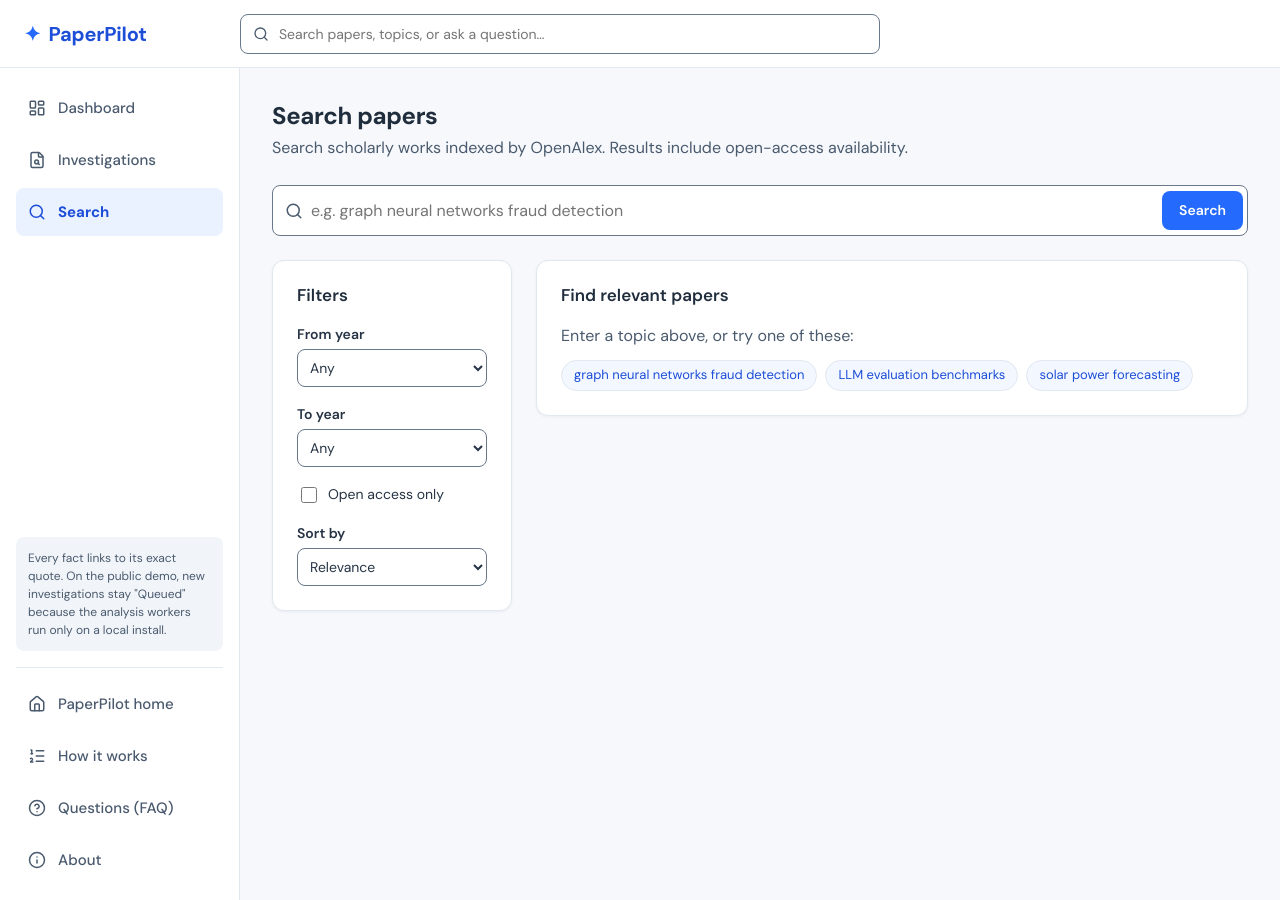
Scenario: SearchPage › searches, shows results with availability and author summary
The image size is (1280, 900).
Type "graph learning" into the search field named "Search papers" at (733, 211), box [311,190,1154,231]
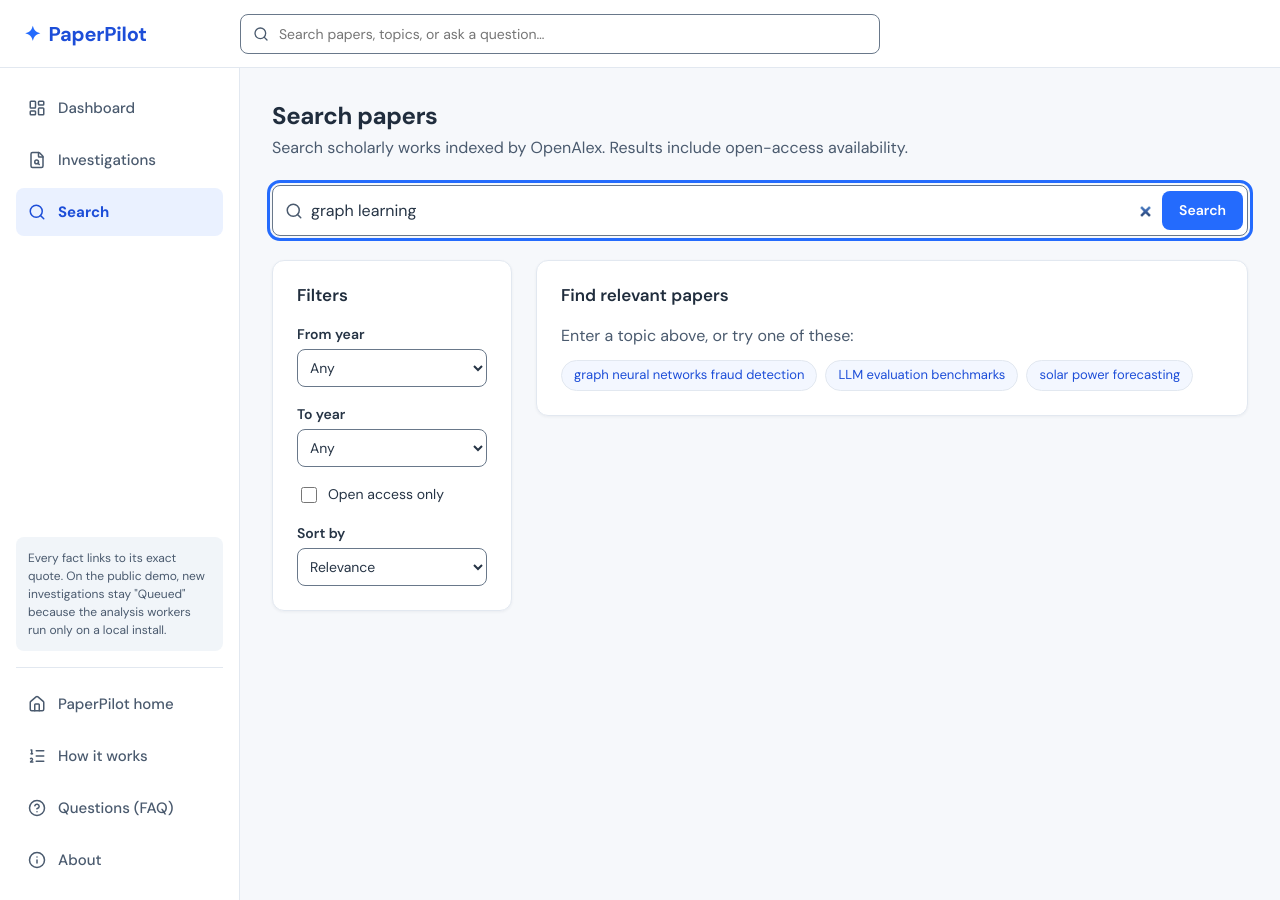
Click the button "Search" at (1203, 211), box [1162,191,1243,230]
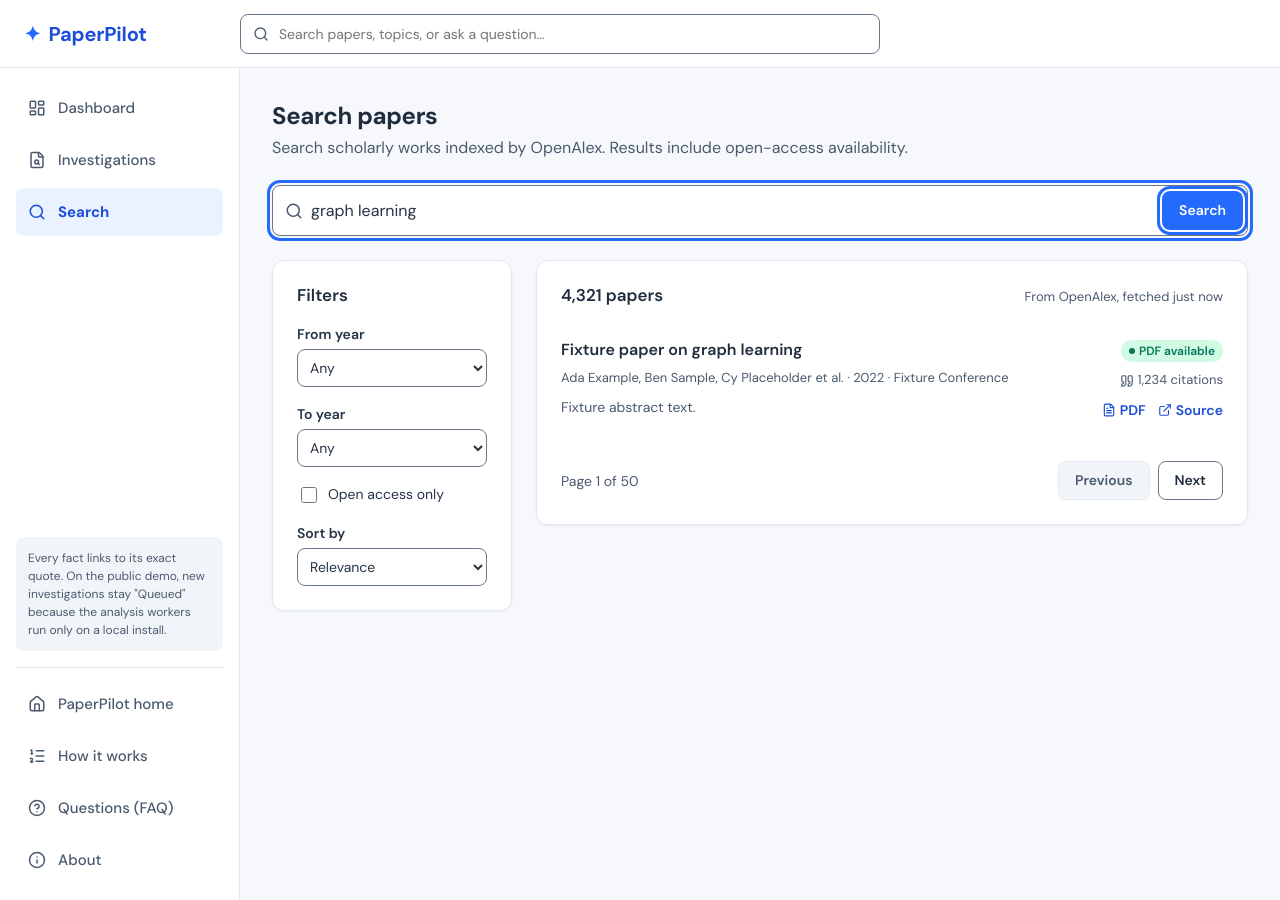
Result: the heading "4,321 papers" is shown at [561,285,663,307]
Result: the text "Ada Example, Ben Sample, Cy Placeholder et al." is shown at [561,368,844,386]
Result: the text "PDF available" is shown at [1121,340,1223,362]
